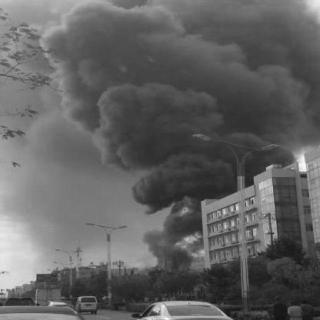Fire: (172, 193, 192, 216)
